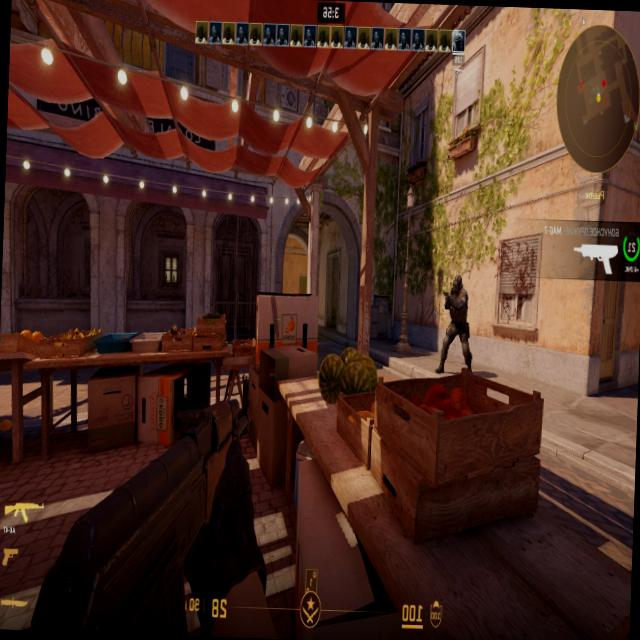CT: (445, 276, 464, 348)
CT_heat: (453, 284, 461, 296)
